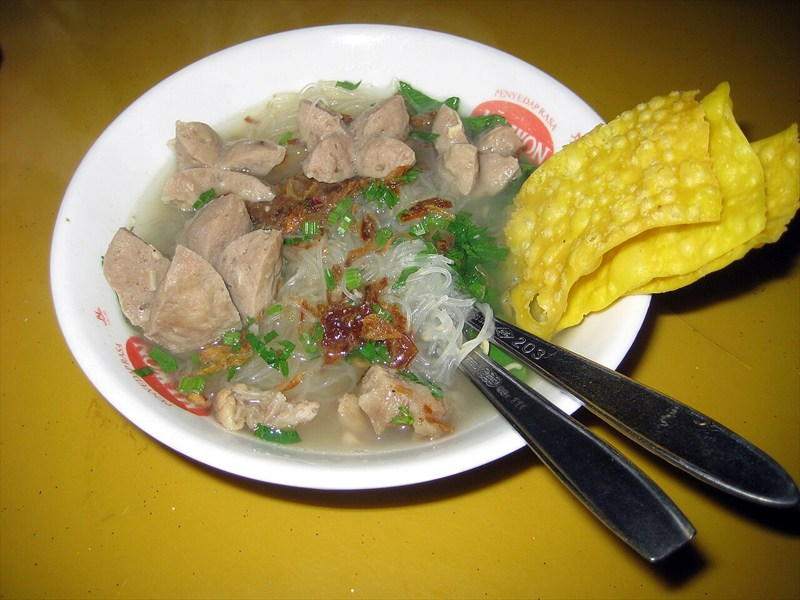Bakso: (57, 34, 738, 511)
